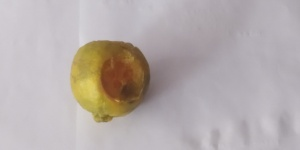BAD: (74, 40, 149, 123)
